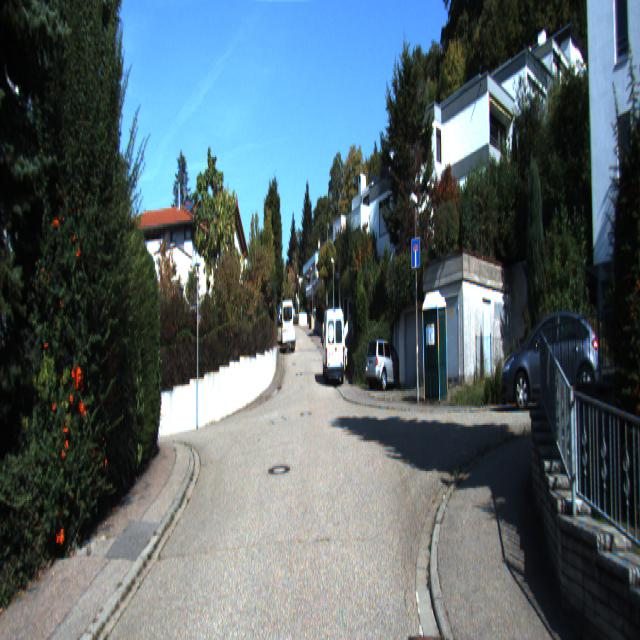Car: (500, 304, 602, 416), (363, 338, 408, 392), (322, 308, 347, 388), (281, 300, 294, 346), (281, 328, 296, 352)
